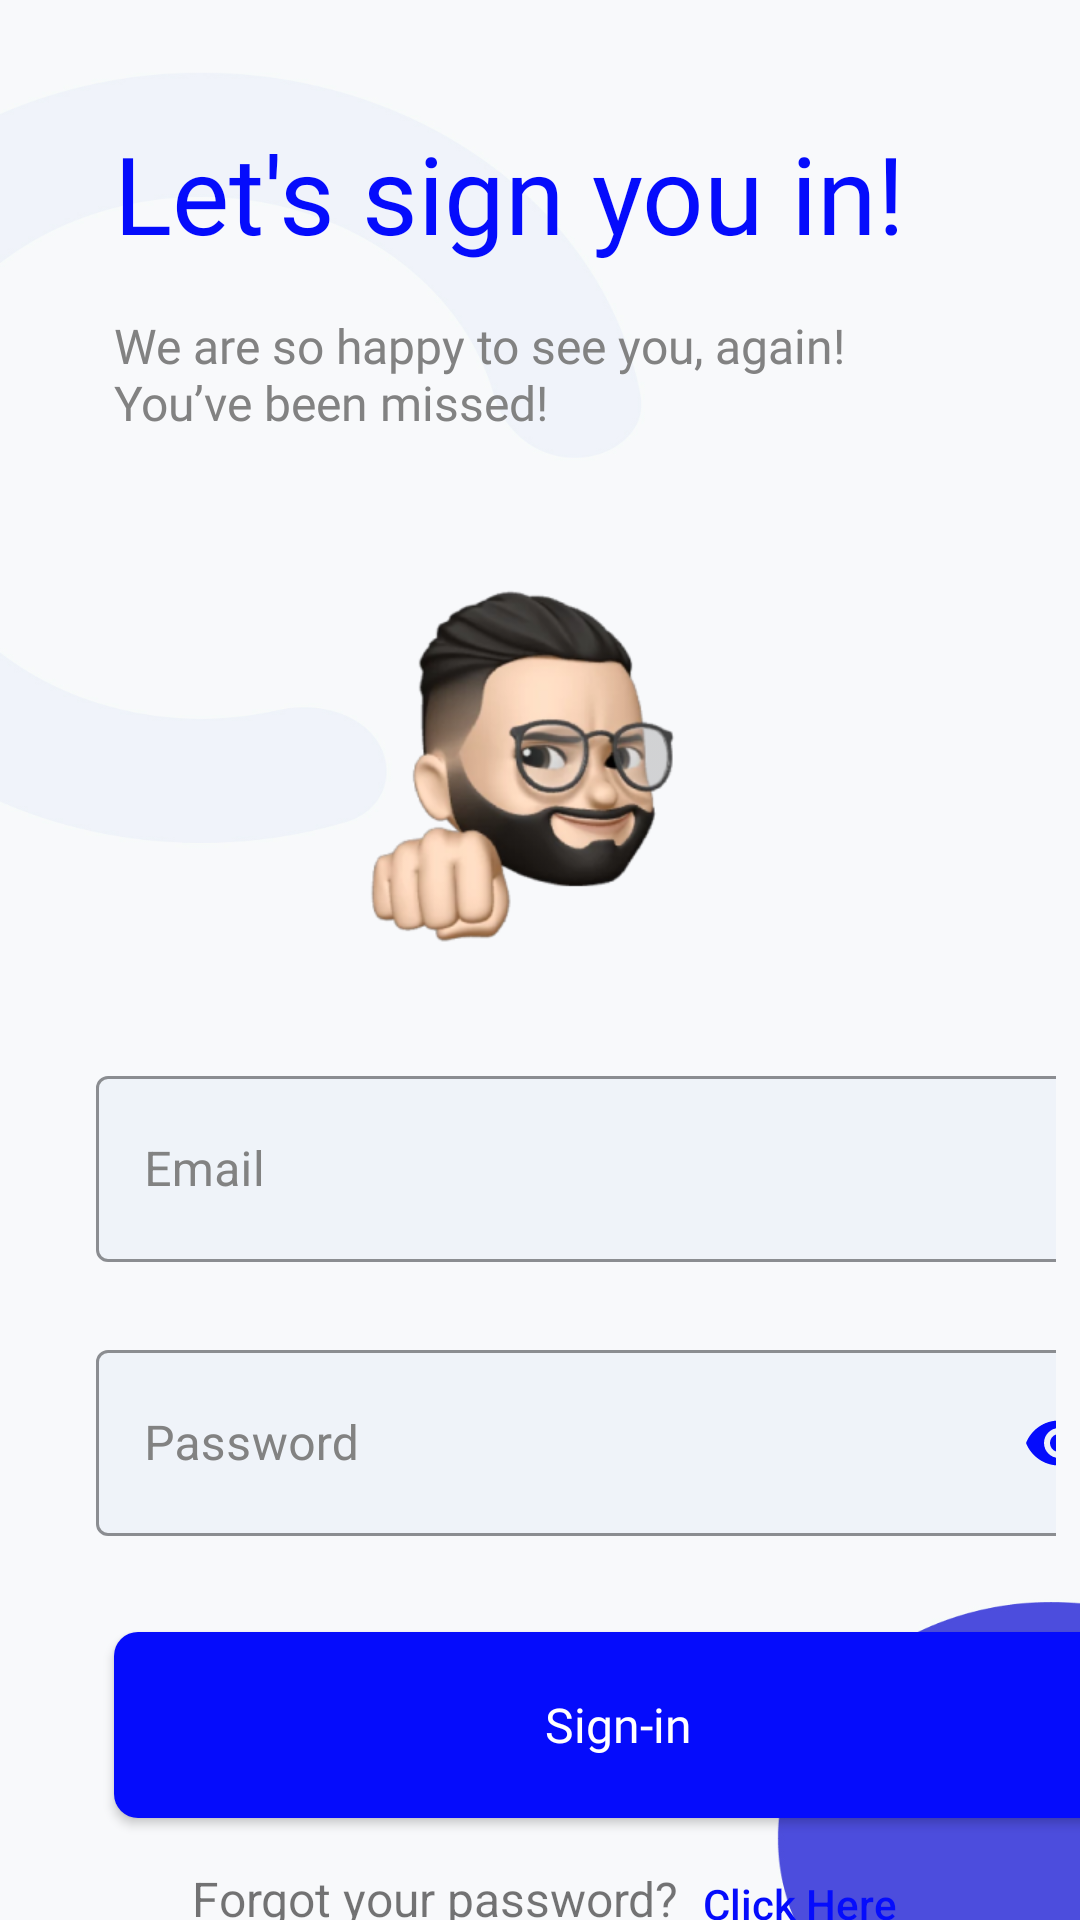

Where icons sit on this 1080*1920 app screen, as {"x1": x1, "y1": y1, "x2": x2, "y2": y2}:
malememoji: {"x1": 371, "y1": 591, "x2": 674, "y2": 942}
